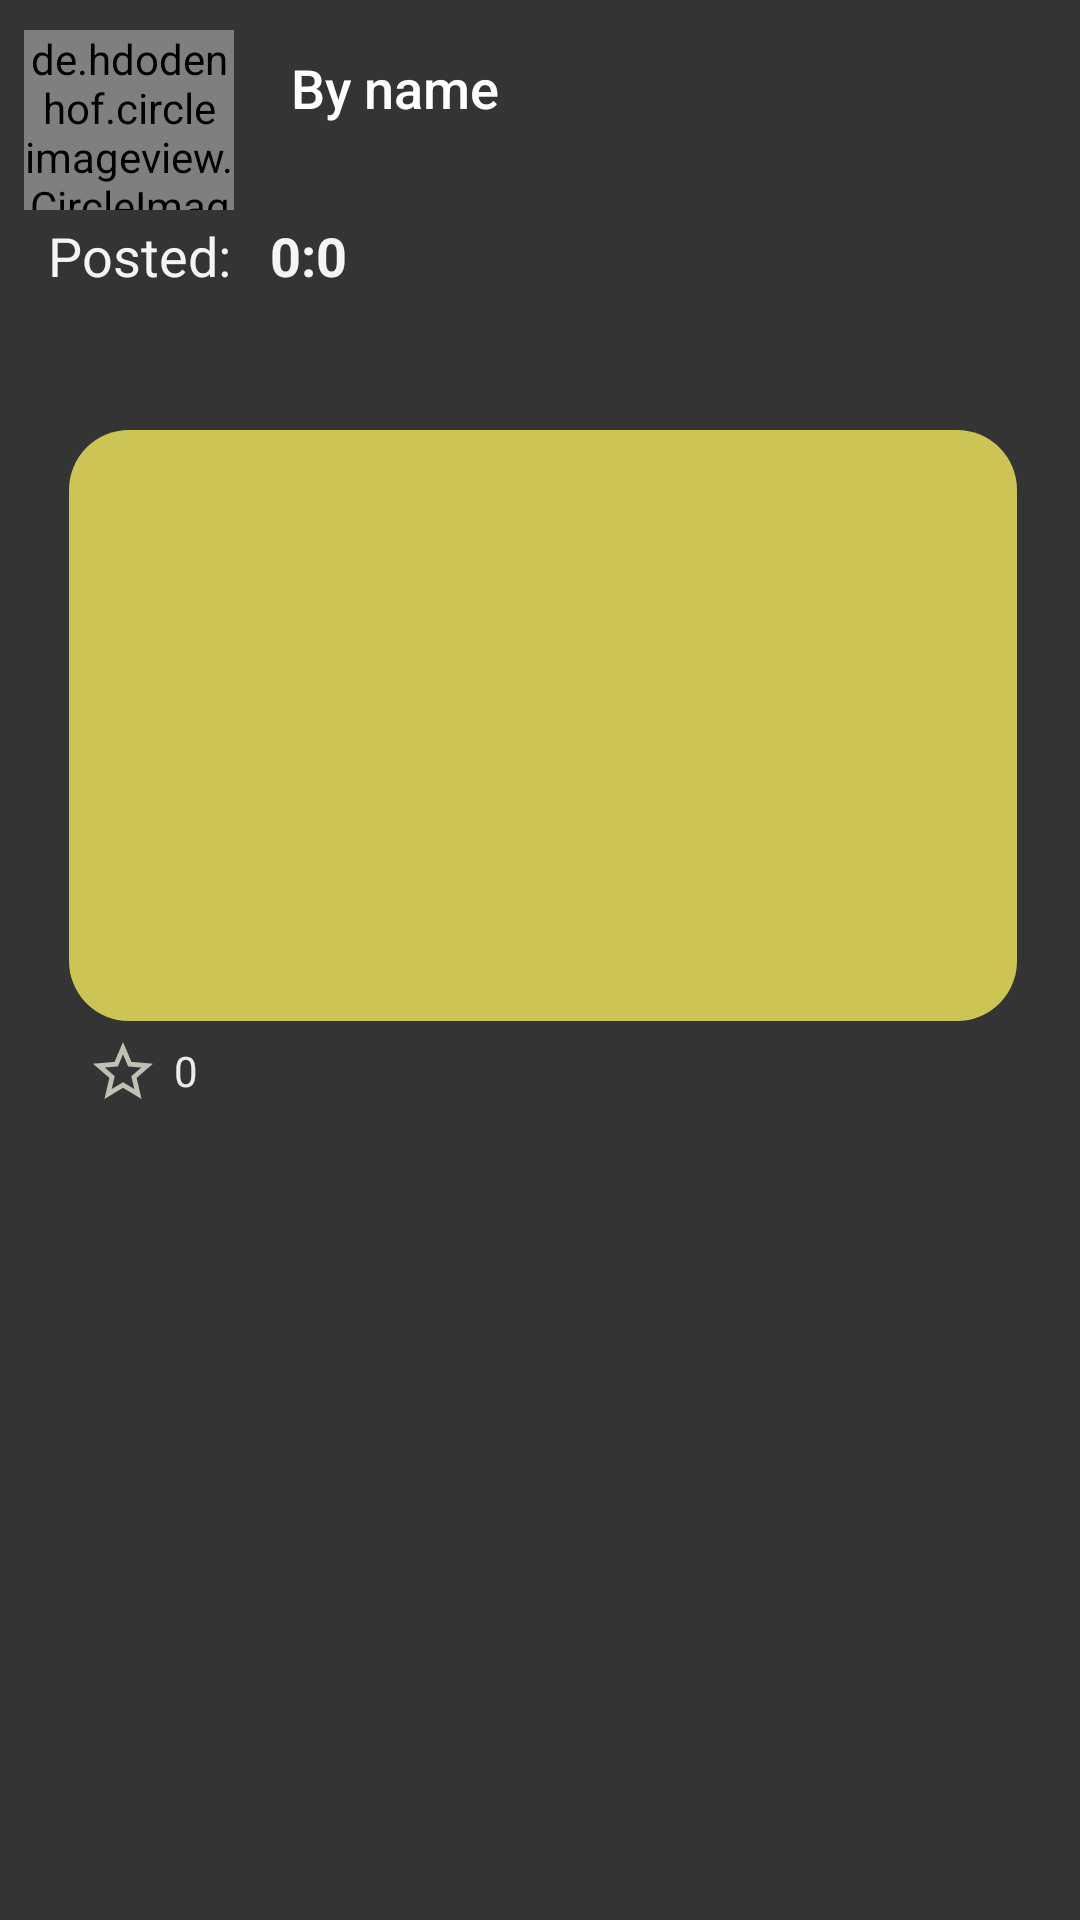

Icon bounding boxes for this 1080*1920 phone screenshot, format bbox=(x1, y1, x2, y2):
star note: bbox=(93, 1042, 153, 1099)
